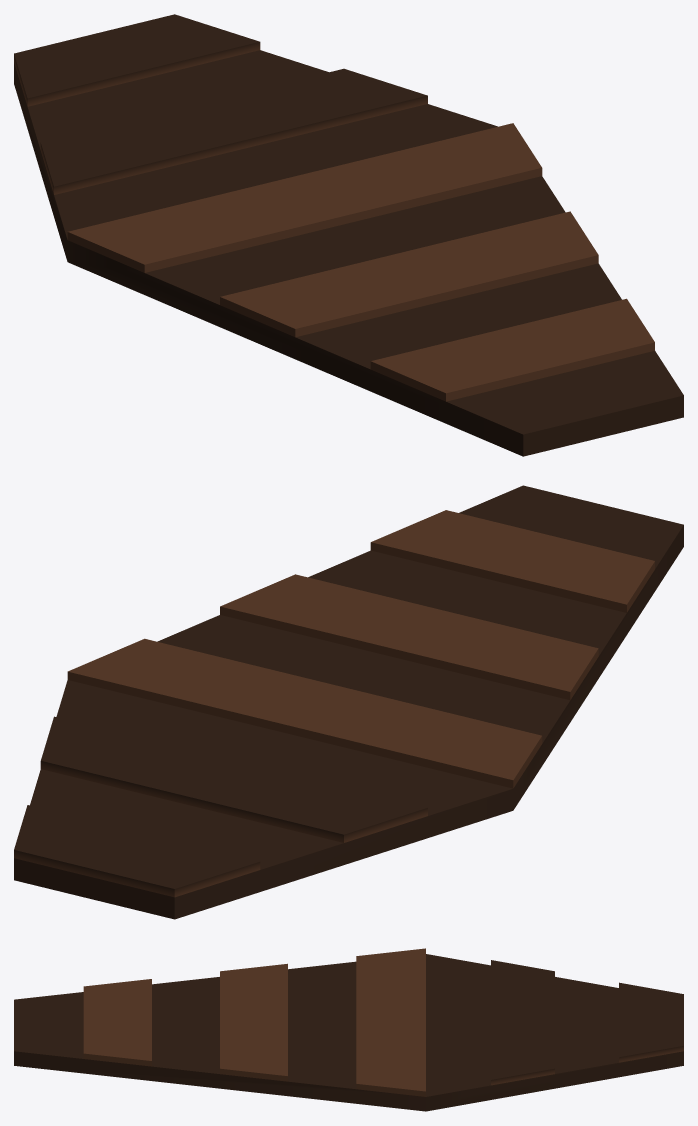
Rendered from coffinroof.FBX.
The picture shows the model from 3 angles, top to bottom: view 1: azimuth 30°, elevation 25°; view 2: azimuth 150°, elevation 25°; view 3: azimuth 270°, elevation 25°; orthographic projection. The views are drawn at different scales.
Visible parts, largest first — view 1: coffinroof; view 2: coffinroof; view 3: coffinroof.
Part boxes in pixels (x1,y1,x2,y2): coffinroof: [14, 14, 683, 456]; coffinroof: [14, 485, 683, 919]; coffinroof: [14, 948, 683, 1111].
Size of the model in its own units: 12.23 by 0.7976 by 24.2.
